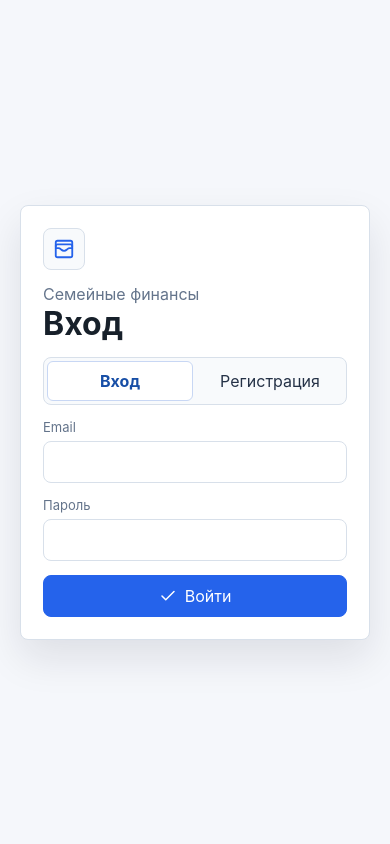
Test: PWA finance experience › registers a new PWA user and opens the finance dashboard
Click the button "Регистрация": (270, 380) [197,360,343,400]
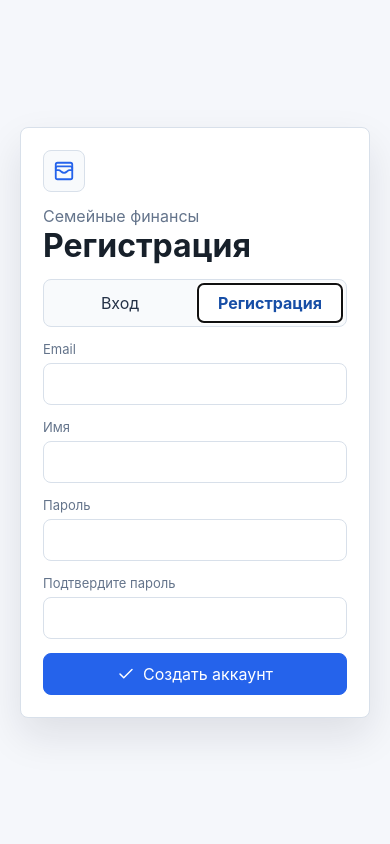
In the field labelled "Email": (195, 384) [43,362,347,404], type "new.owner@example.test"
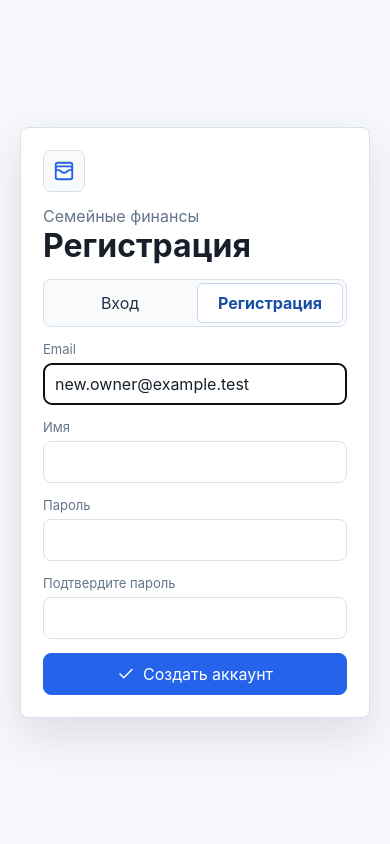
In the field labelled "Имя": (195, 462) [43,440,347,482], type "New Owner"
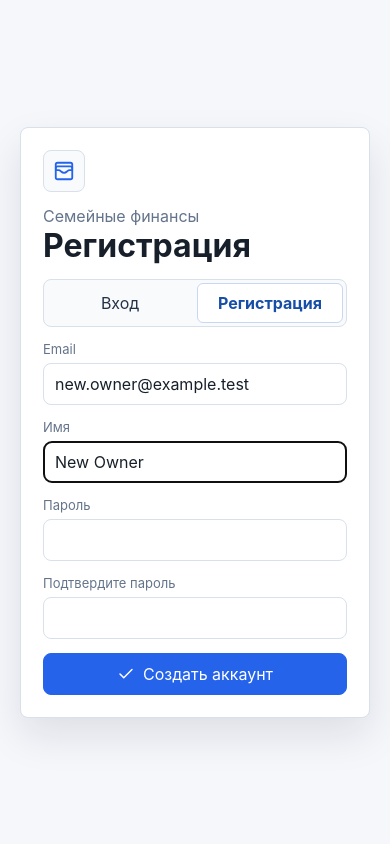
In the password field labelled "Пароль": (195, 540) [43,518,347,560], type "dummy-password-12"
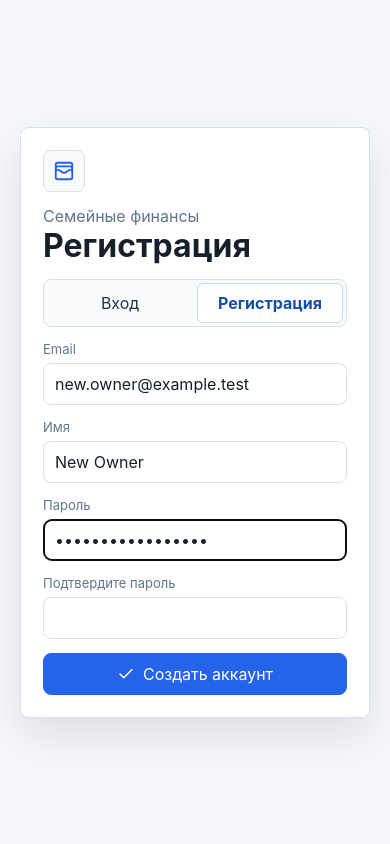
In the password field labelled "Подтвердите пароль": (195, 618) [43,596,347,638], type "dummy-password-12"
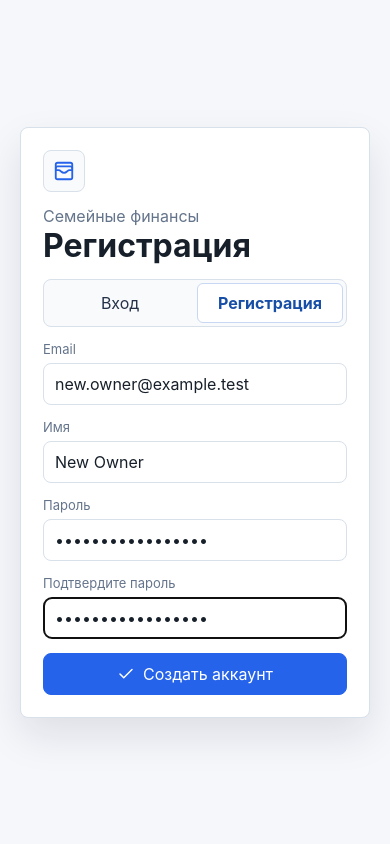
Click the button with aria-label "Create account": (195, 674) [43,652,347,694]
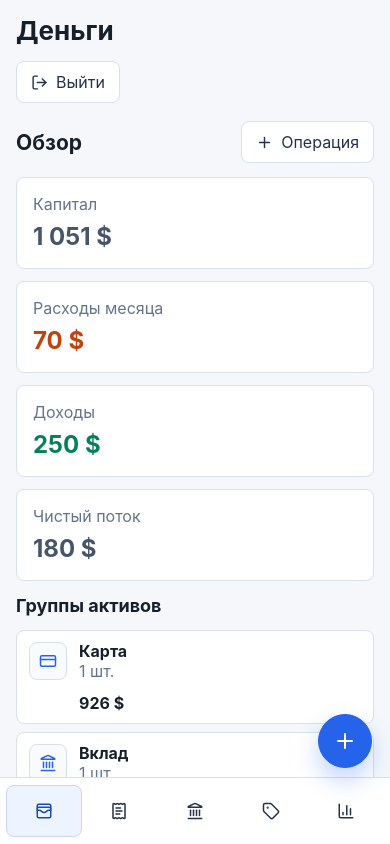
Expected: the heading "Деньги" is shown, [16,16,114,45]
